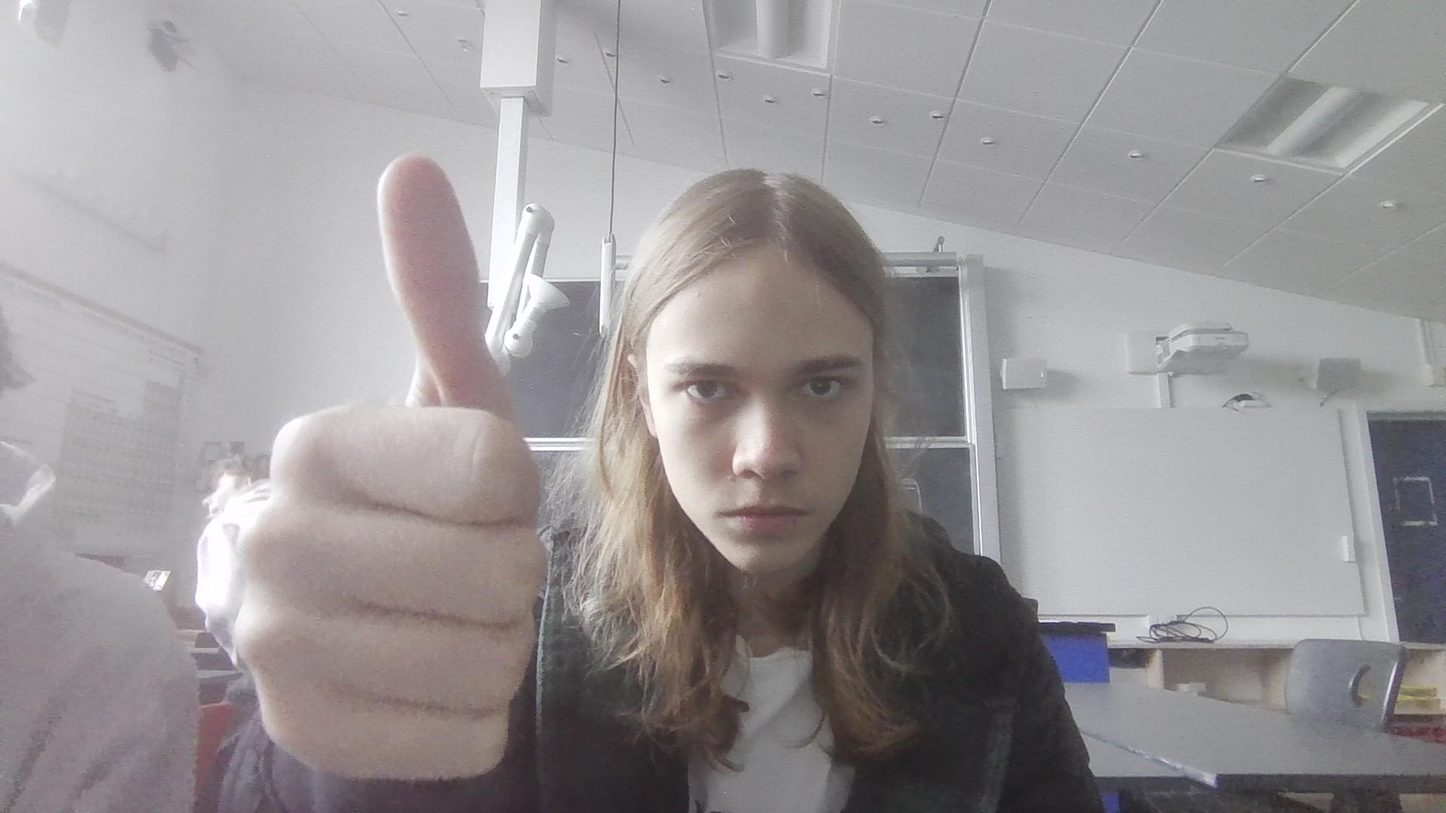thumbs up: (231, 138, 546, 782)
